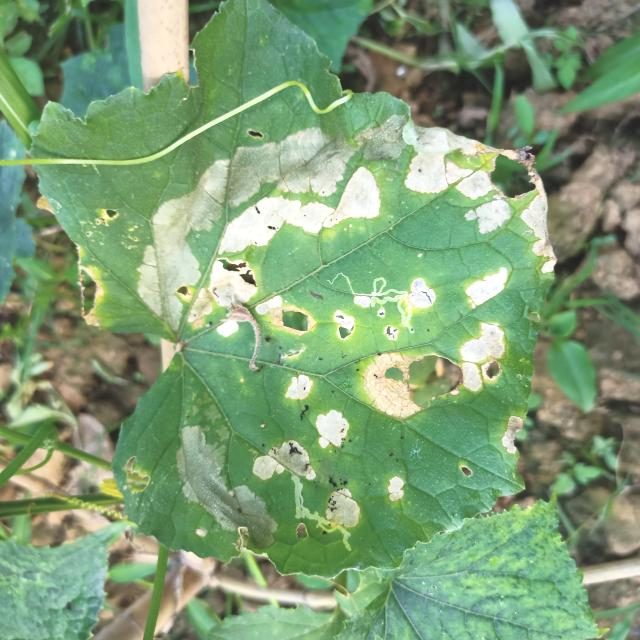disease_cucumber: (244, 319, 530, 536), (137, 113, 395, 337), (397, 121, 557, 330)
